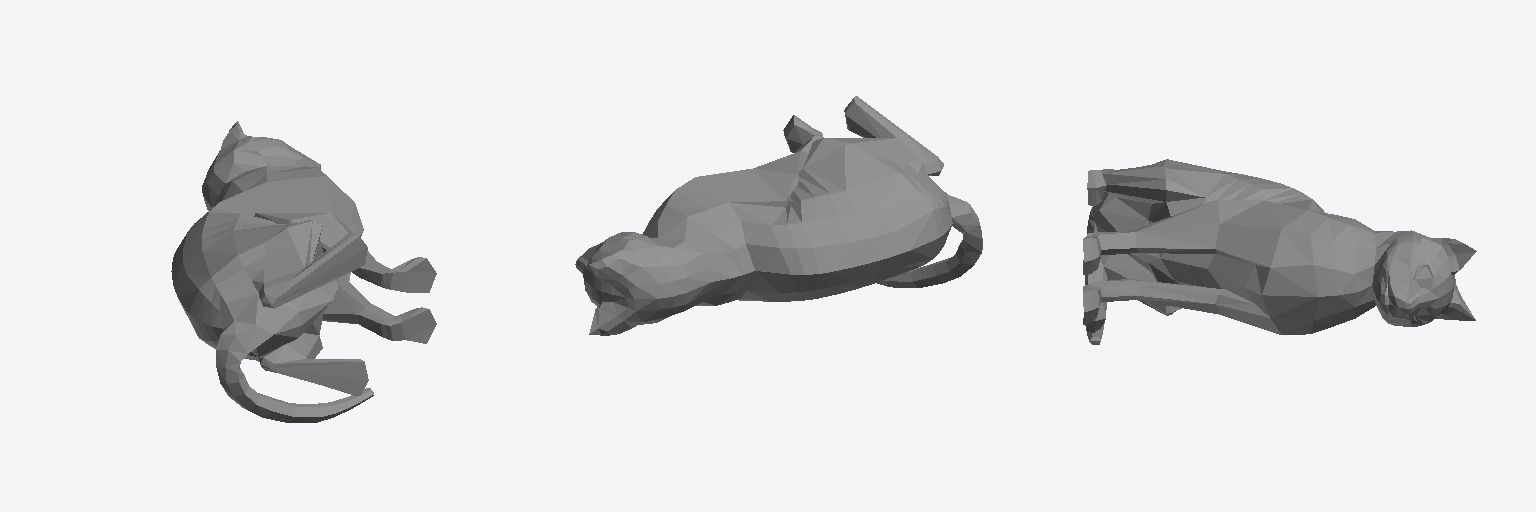
Rendered from cat.obj.
3 views of the same model, side by side, from view 1: azimuth 30°, elevation 25°; view 2: azimuth 150°, elevation 25°; view 3: azimuth 270°, elevation 25° (orthographic).
Visible parts, largest first — view 1: Plane; view 2: Plane; view 3: Plane.
Part boxes in pixels (bbox=[...]): Plane: bbox=[171, 121, 436, 422]; Plane: bbox=[575, 96, 982, 335]; Plane: bbox=[1083, 159, 1476, 344].
Bounding box in the file's own units: 33.99 × 22.86 × 45.62.